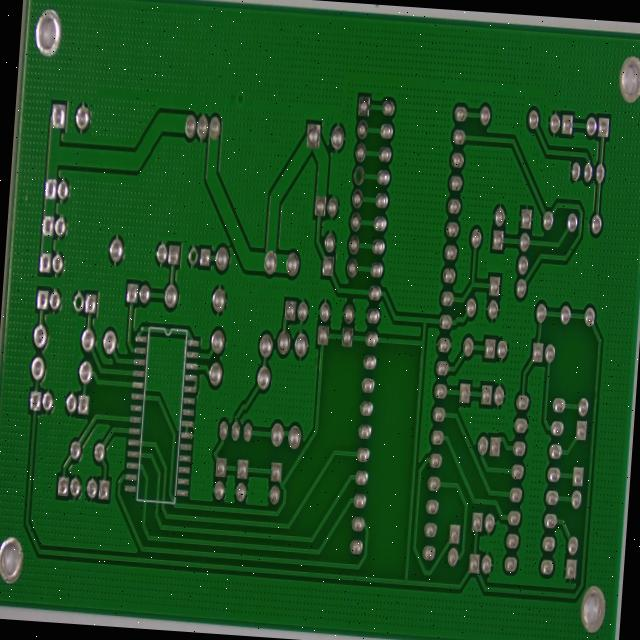missing_hole: (68, 343, 84, 377), (191, 291, 204, 320), (366, 197, 379, 222)
